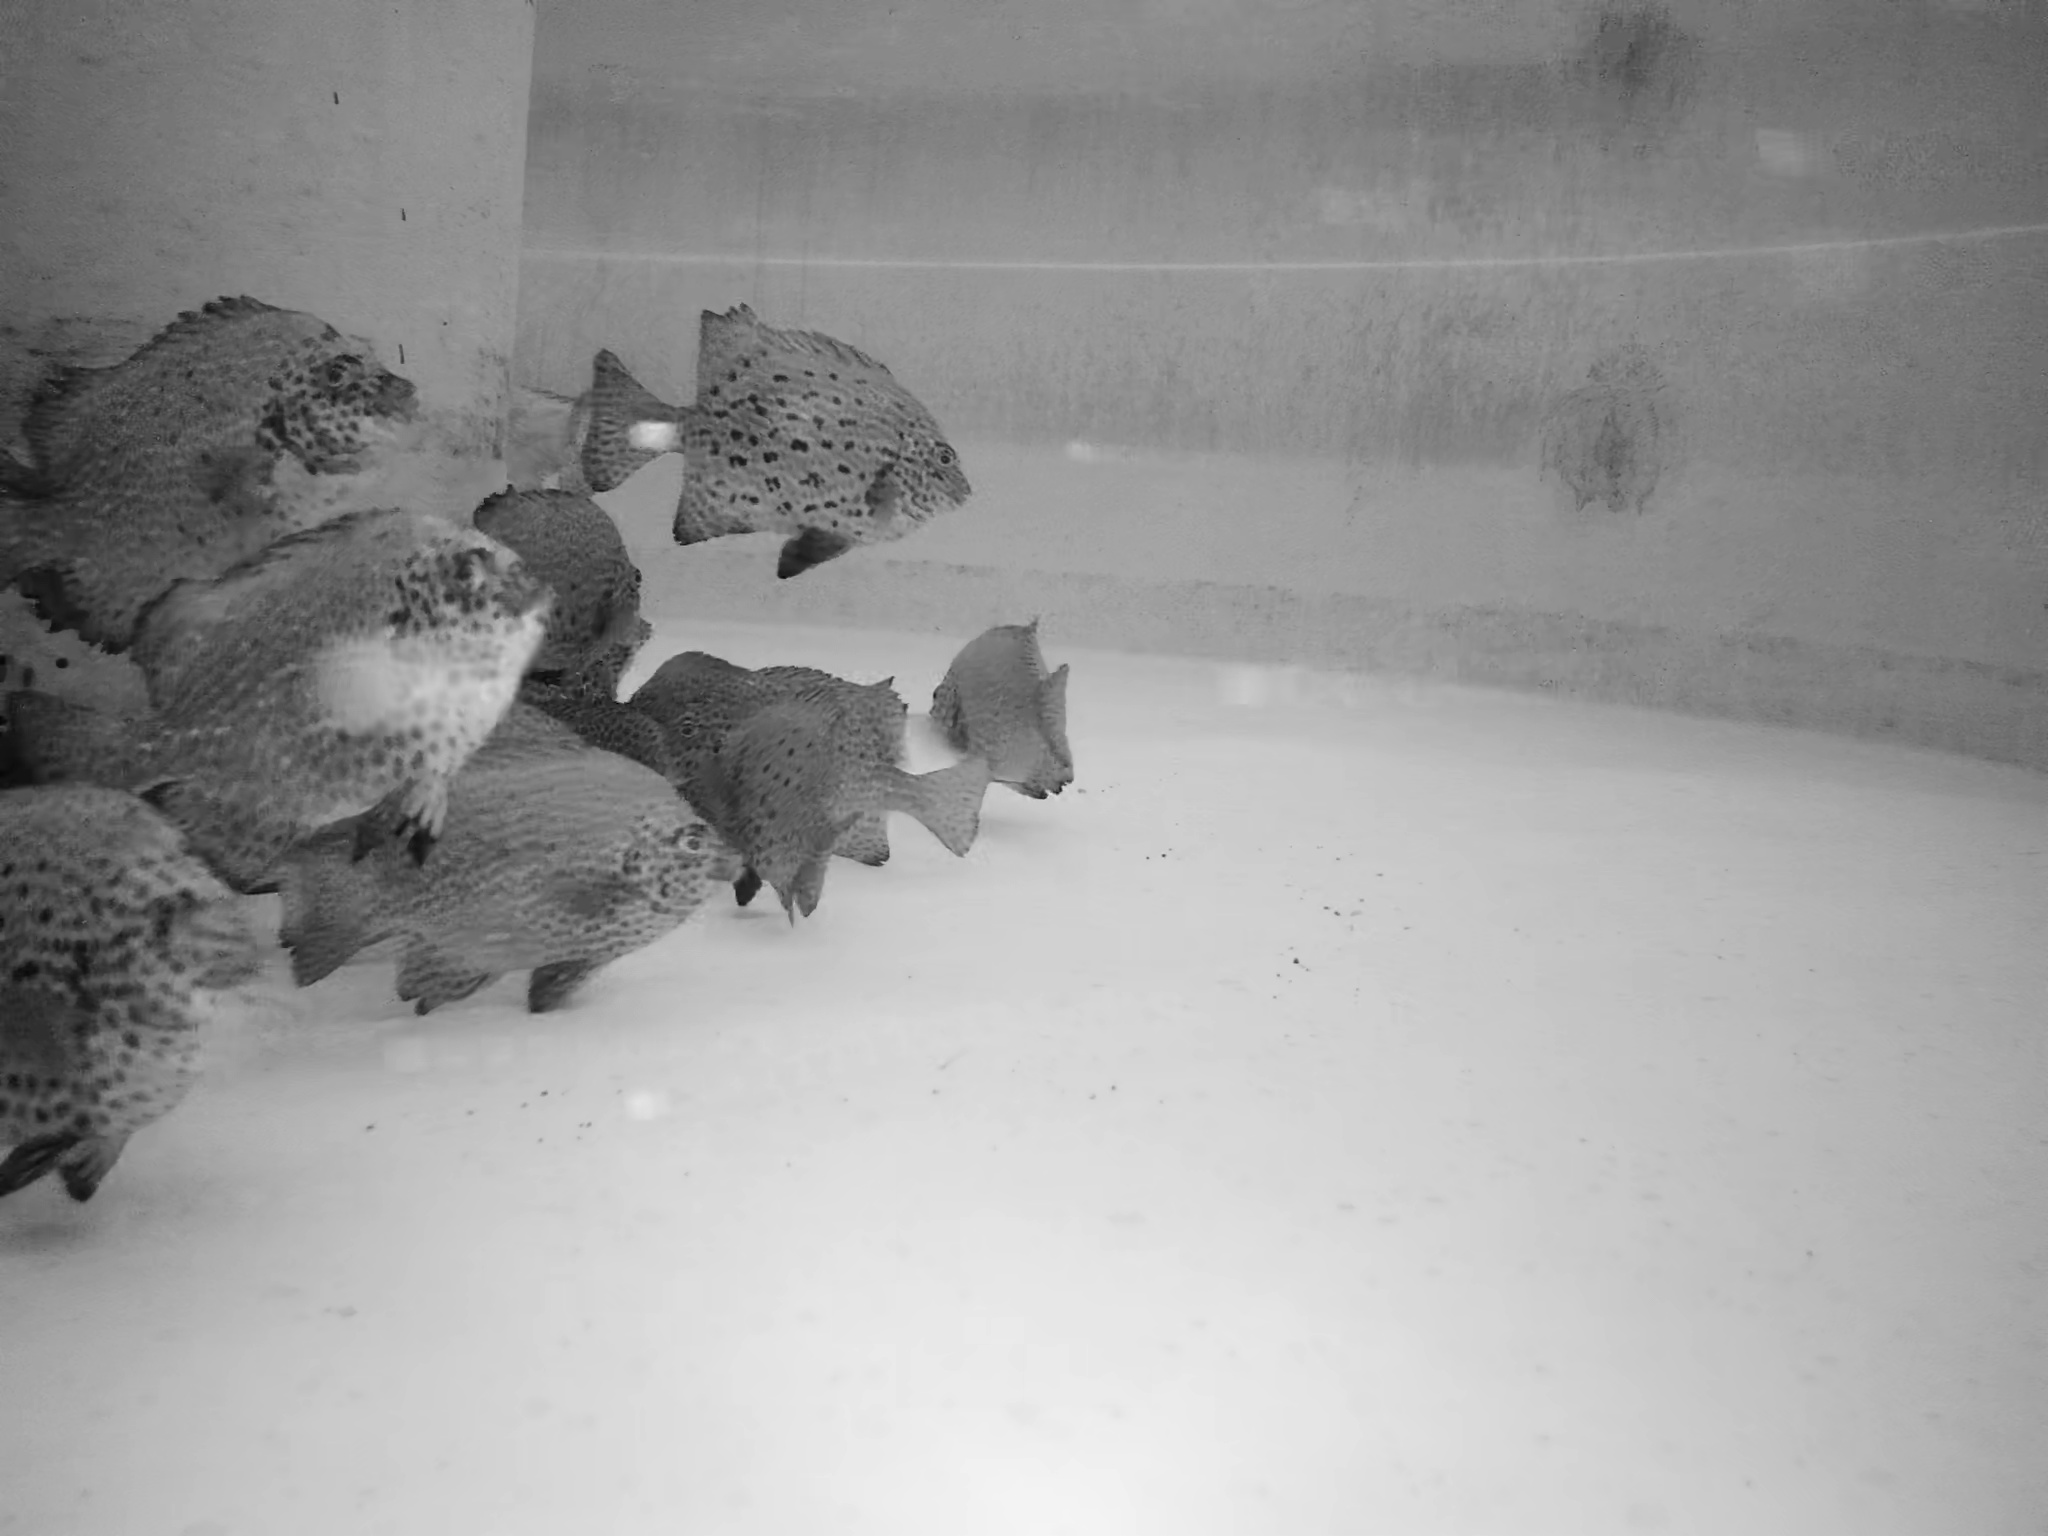fish: (139, 481, 556, 833), (32, 282, 416, 636), (279, 733, 731, 1015), (585, 295, 984, 565), (3, 778, 245, 1194), (656, 671, 989, 895), (479, 479, 650, 694), (935, 613, 1087, 820)
